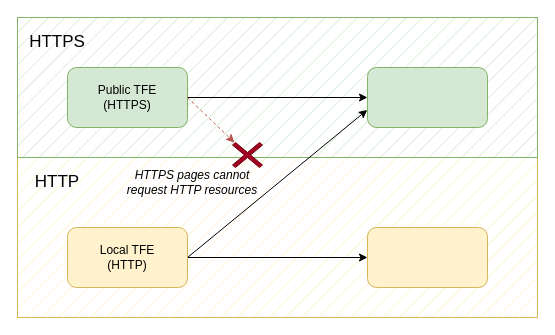
This 555x335 diagram has some shape labels left out. The shapes that lost their labels are listed below. From the top down, each one's box as (x1, y1, x2, y2) in pixels, then its label:
(366, 66, 488, 128): Remote File Server (HTTPS)
(366, 226, 488, 288): Local File Server (HTTP)
